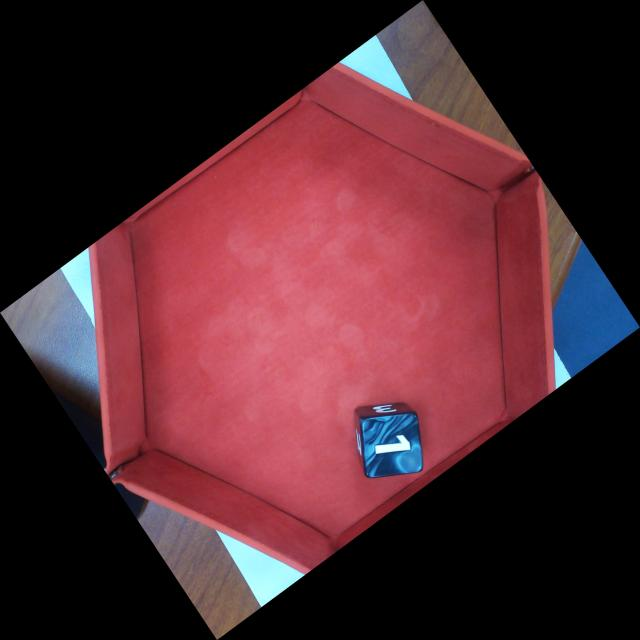dice: (359, 409, 425, 483)
